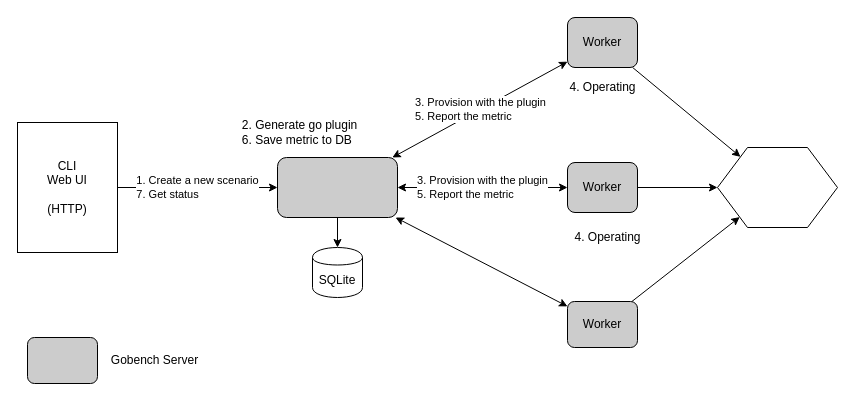
Some shapes in this 855 by 401 pixel diagram are drawn without their labels. The centre of each missing label's shape, as x and y in pixels:
"Master" goes at (x=337, y=187).
"Target" goes at (x=777, y=187).
